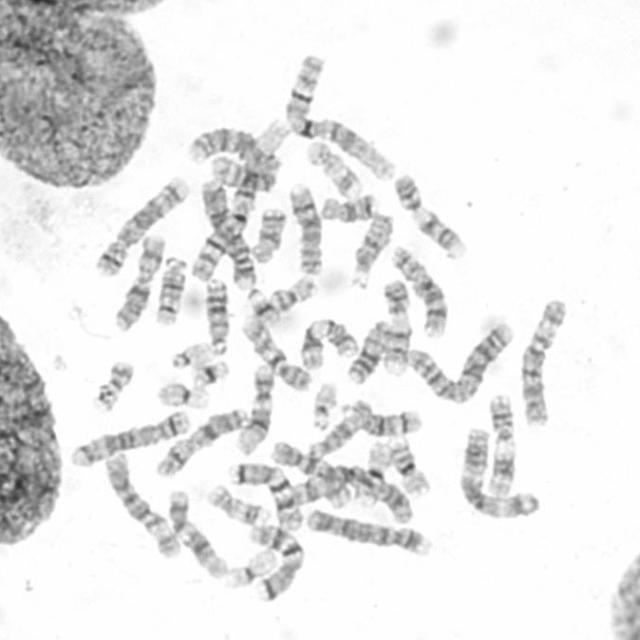A1: (187, 117, 293, 284), (282, 52, 397, 182)
A2: (406, 320, 512, 403), (187, 124, 280, 193)
A3: (460, 427, 546, 522), (290, 464, 415, 524)
B4: (197, 177, 259, 288), (304, 508, 433, 557)
B5: (87, 174, 188, 278), (67, 406, 192, 469)
C10: (267, 440, 357, 506), (238, 315, 314, 390)
C11: (482, 391, 520, 496), (297, 317, 360, 370)
C12: (165, 487, 229, 580), (234, 364, 276, 456)
C6: (104, 452, 184, 557), (519, 297, 566, 428)
C7: (226, 462, 305, 530), (247, 524, 307, 603)
C8: (390, 245, 450, 338), (286, 184, 324, 276)
C9: (390, 173, 466, 257), (384, 278, 413, 374)
D13: (343, 319, 388, 385), (204, 276, 233, 356)
D14: (340, 401, 423, 438), (153, 255, 189, 327)
D15: (309, 396, 374, 458), (348, 211, 399, 287)
E16: (353, 439, 396, 508), (384, 436, 430, 498)
E17: (303, 137, 362, 197), (205, 484, 272, 526)
E18: (249, 208, 287, 264), (318, 191, 382, 223)
F19: (226, 547, 278, 590), (155, 383, 211, 409)
F20: (93, 357, 135, 412), (270, 276, 318, 314)
G21: (245, 288, 279, 326), (190, 361, 229, 387)
G22: (310, 379, 339, 431), (170, 342, 214, 370)
X: (152, 406, 250, 481), (112, 232, 165, 334)
